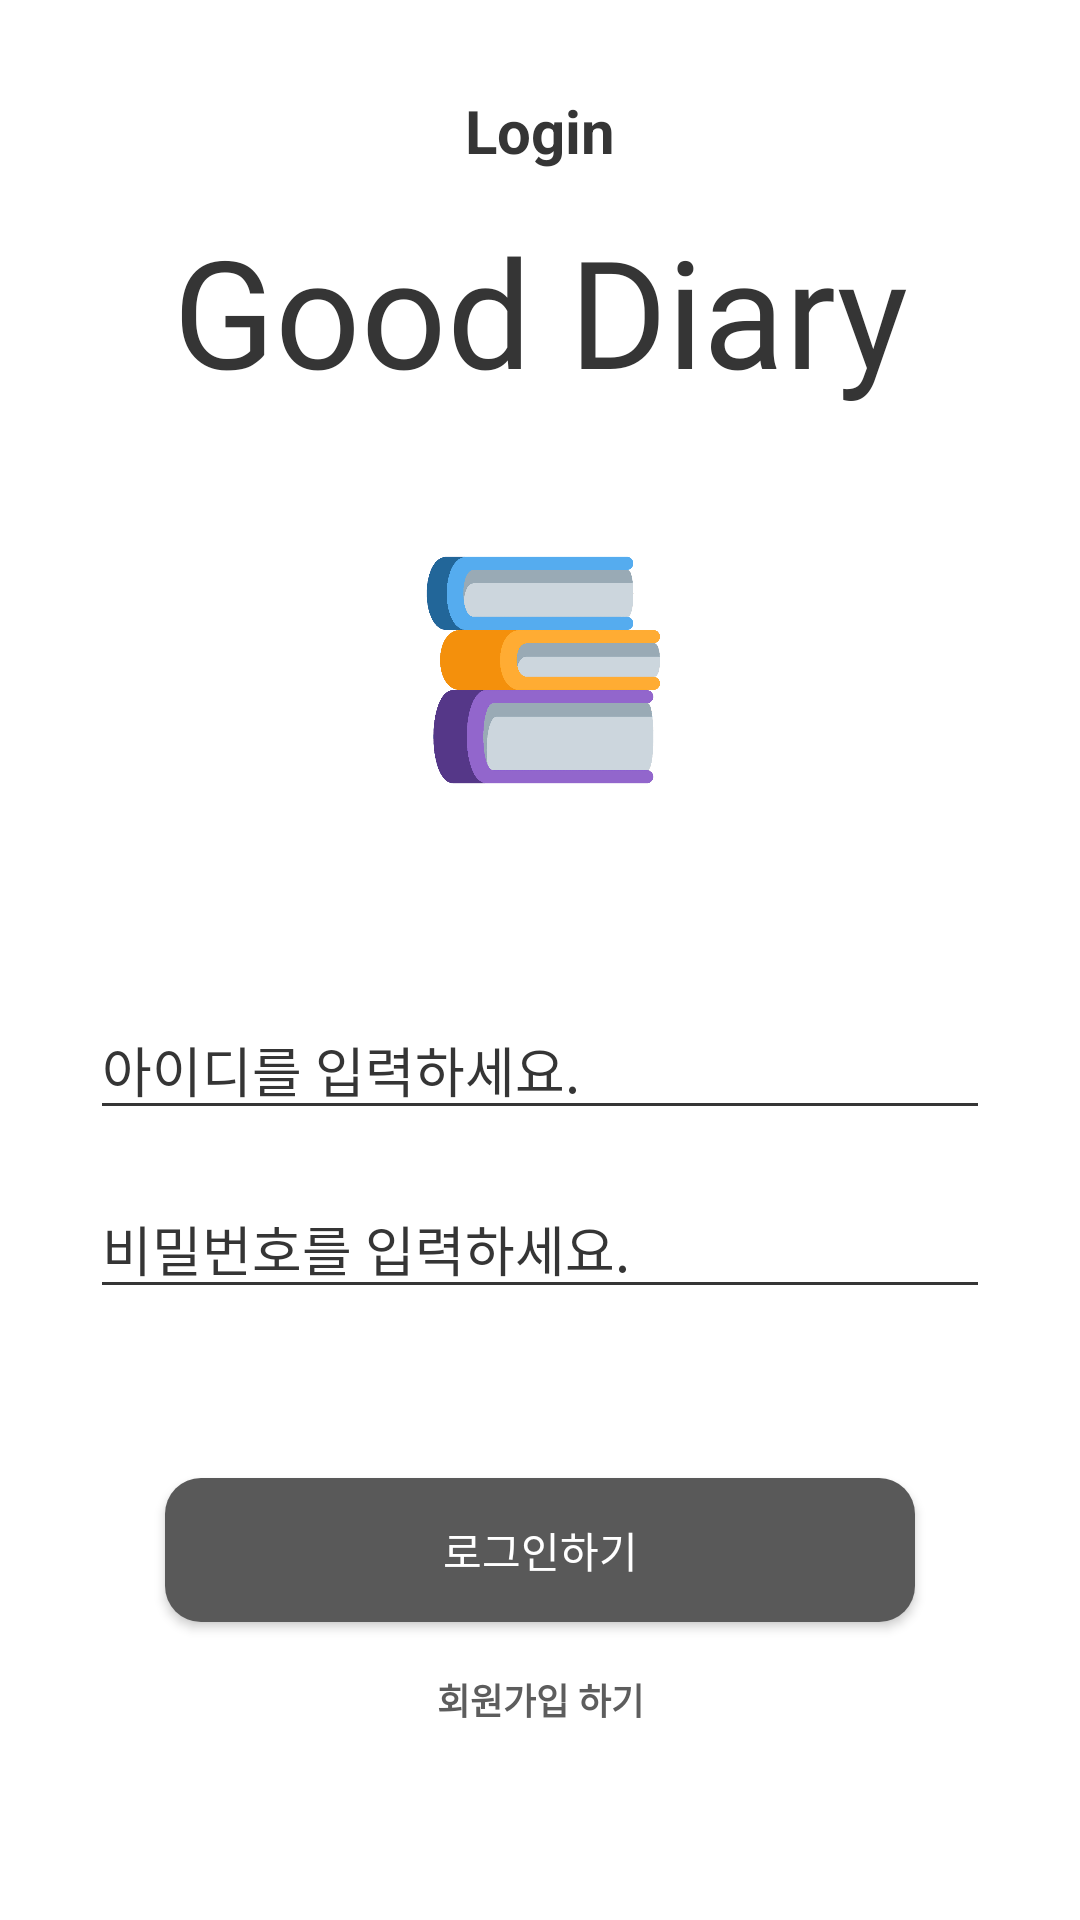

Point at icon controls on the screen. Image size 1080*1920, points as [x,y].
bookimage: [543,670]
